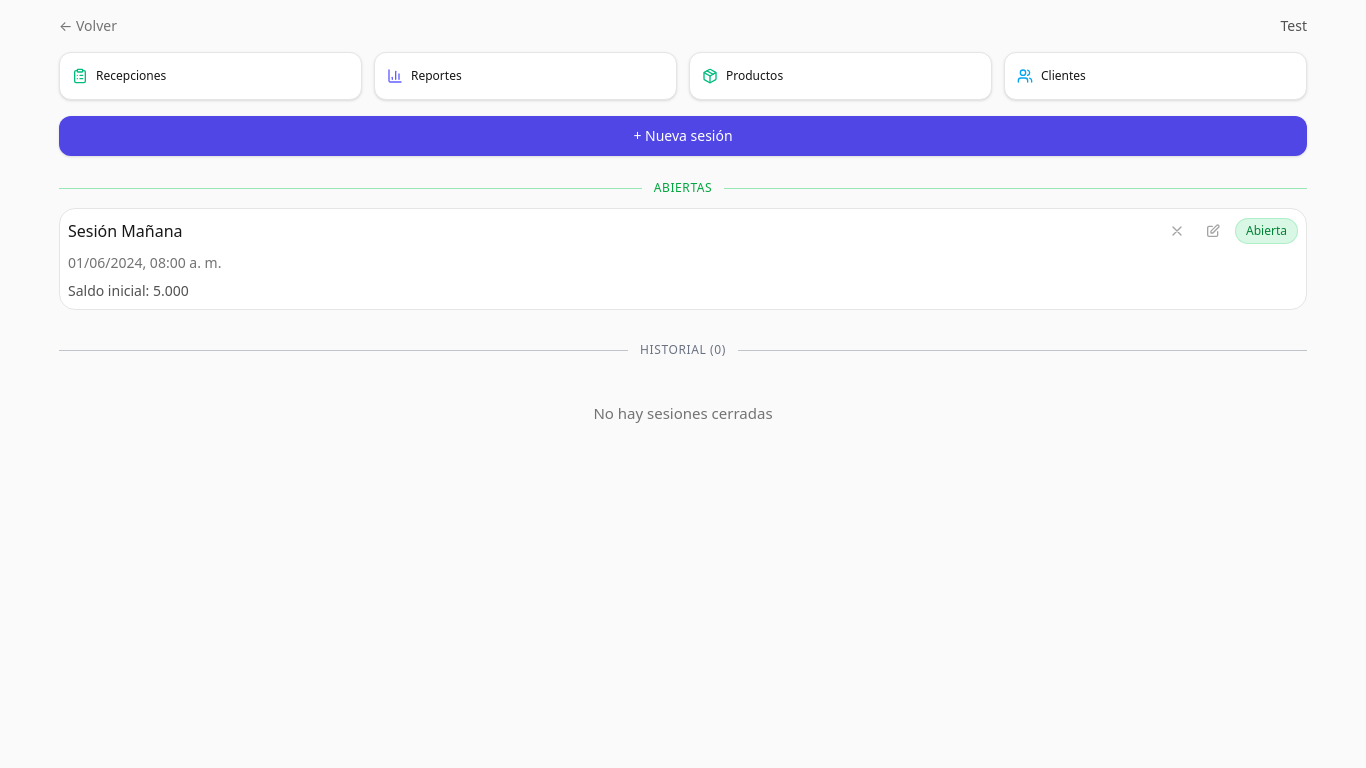
Test: BranchSessions › should close close-session modal on cancel
The width and height of the screenshot is (1366, 768).
Click the button titled "Cerrar".
click(1177, 231)  # box [1163,217,1191,245]
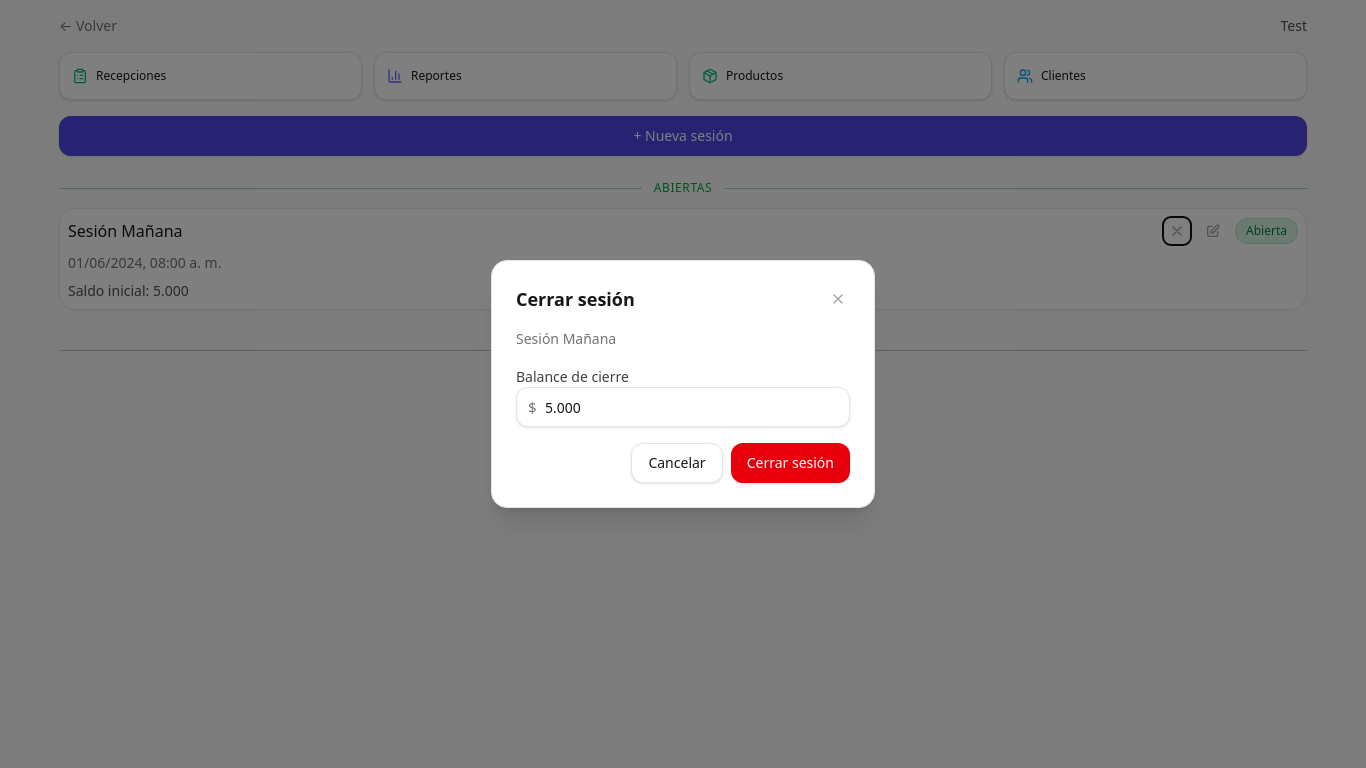
expect the number of headings "Cerrar sesión" is 2: met, box [516,285,635,313]; [731,443,850,483]
Click the button "Cancelar".
click(677, 463)  # box [631,443,723,483]
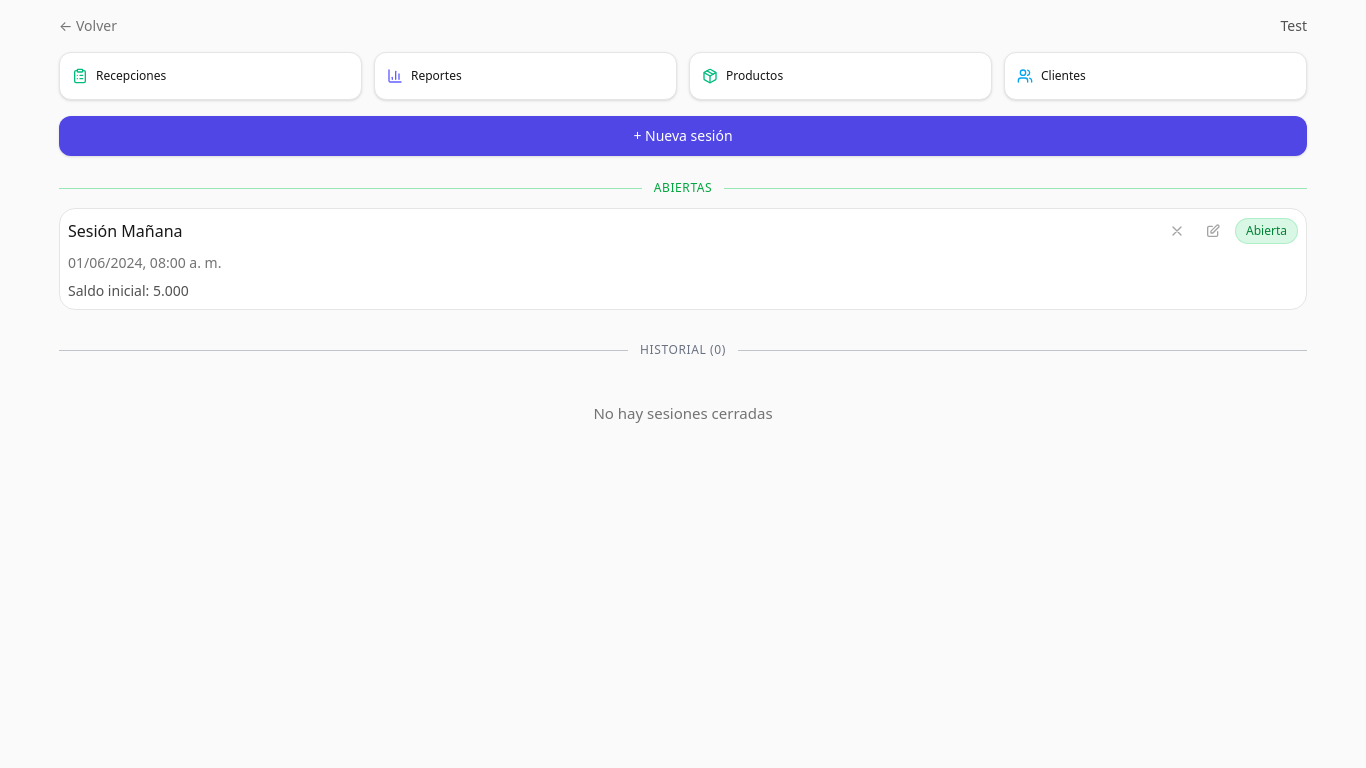
expect no headings "Cerrar sesión" are shown: met
